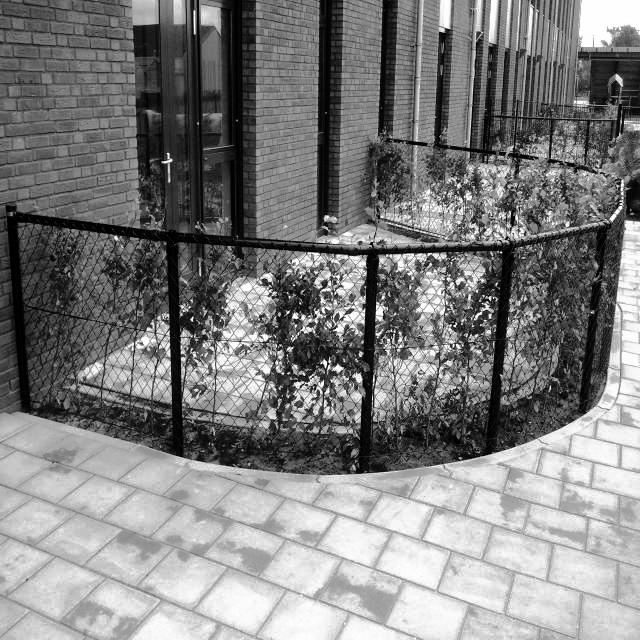fences: (32, 217, 410, 481), (422, 236, 624, 461)
